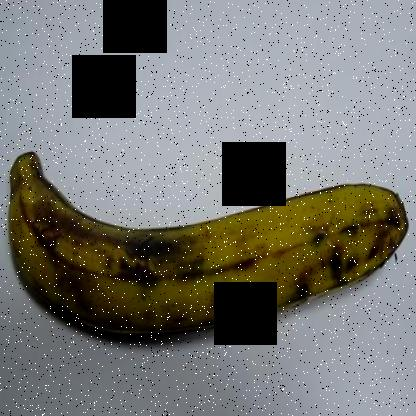overripe: (1, 129, 414, 358)
